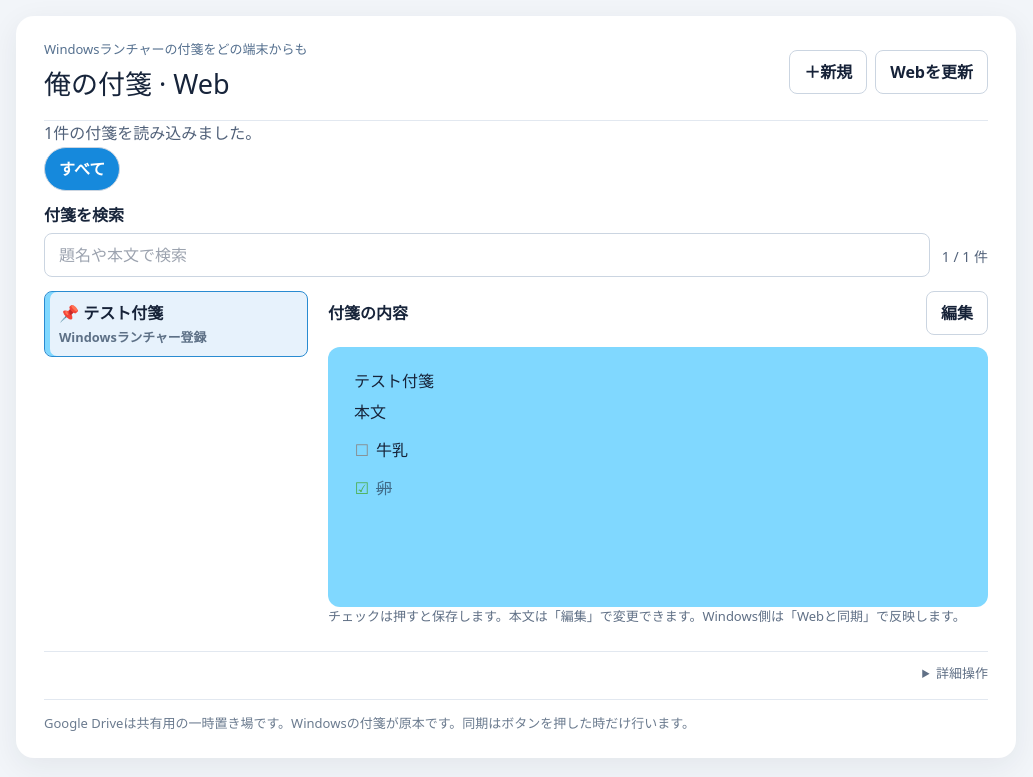
shared note editor › 閲覧中のクリックだけでチェックを保存し、本文・色・画像を保つ
Click the checkbox named "牛乳".
click(362, 450)  # box top-left (354, 438), bottom-right (370, 462)
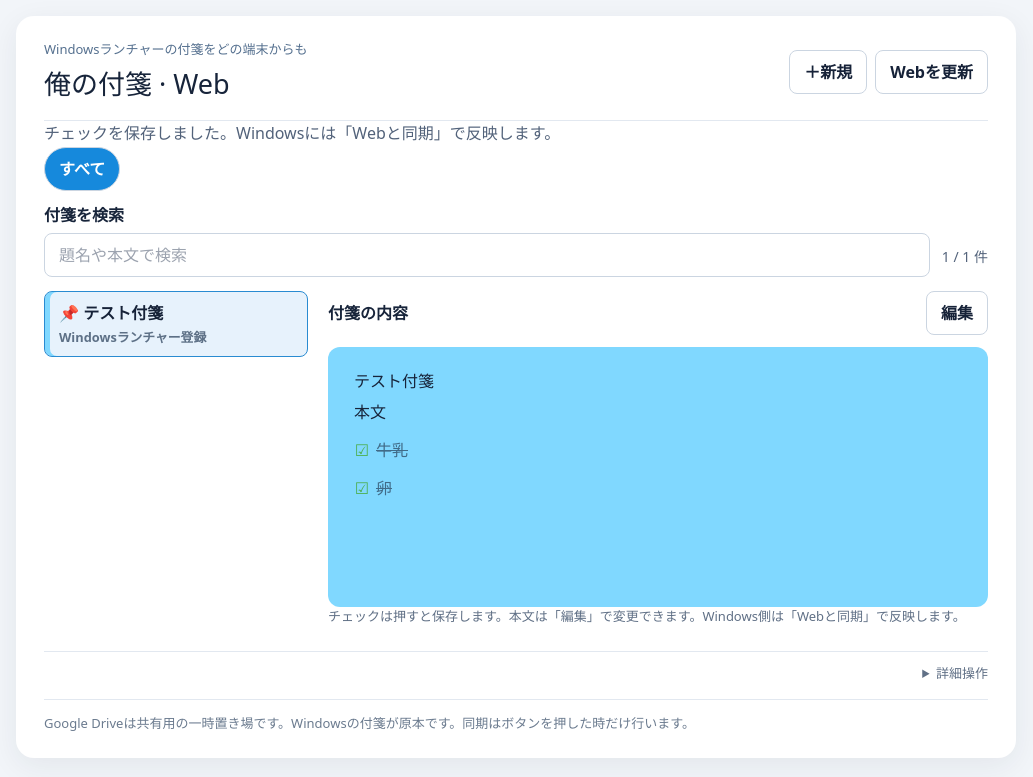
Expected: the button "編集" is shown, top-left (926, 291), bottom-right (988, 335)
Expected: the text "チェックを保存しました。Windowsには「Webと同期」で反映します。" is shown, top-left (44, 122), bottom-right (560, 144)
